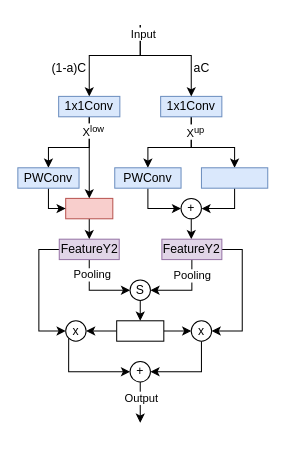
Image size: 286x449. Some labels were removed from this diagram. Each missing label, with the centre of its shape:
"concat" belongs at (x=89, y=208).
"GWConv" belongs at (x=234, y=177).
"SoftMax" belongs at (x=140, y=330).
